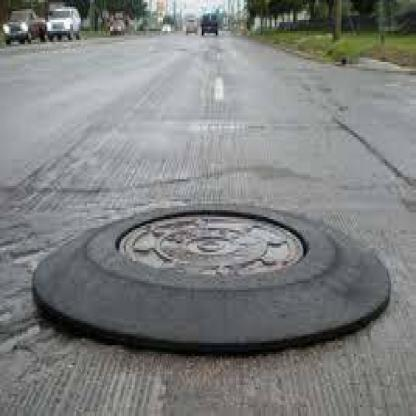manholes: (81, 179, 324, 321)
